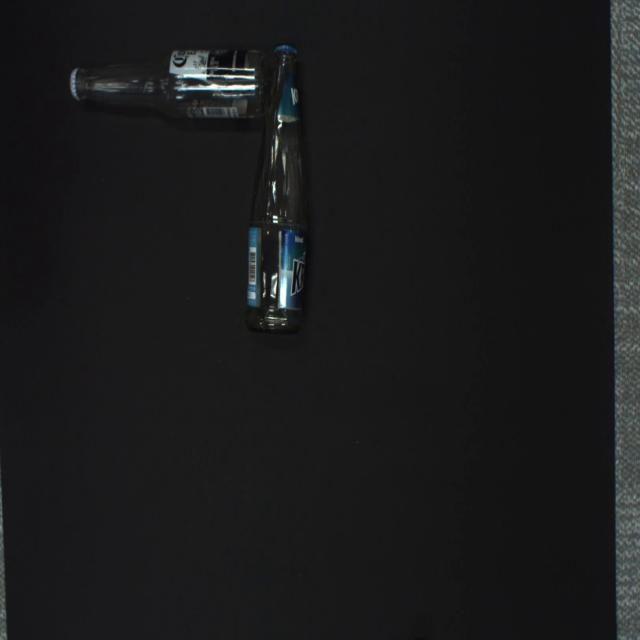beer-bottle: (245, 45, 309, 334), (70, 49, 269, 118)
